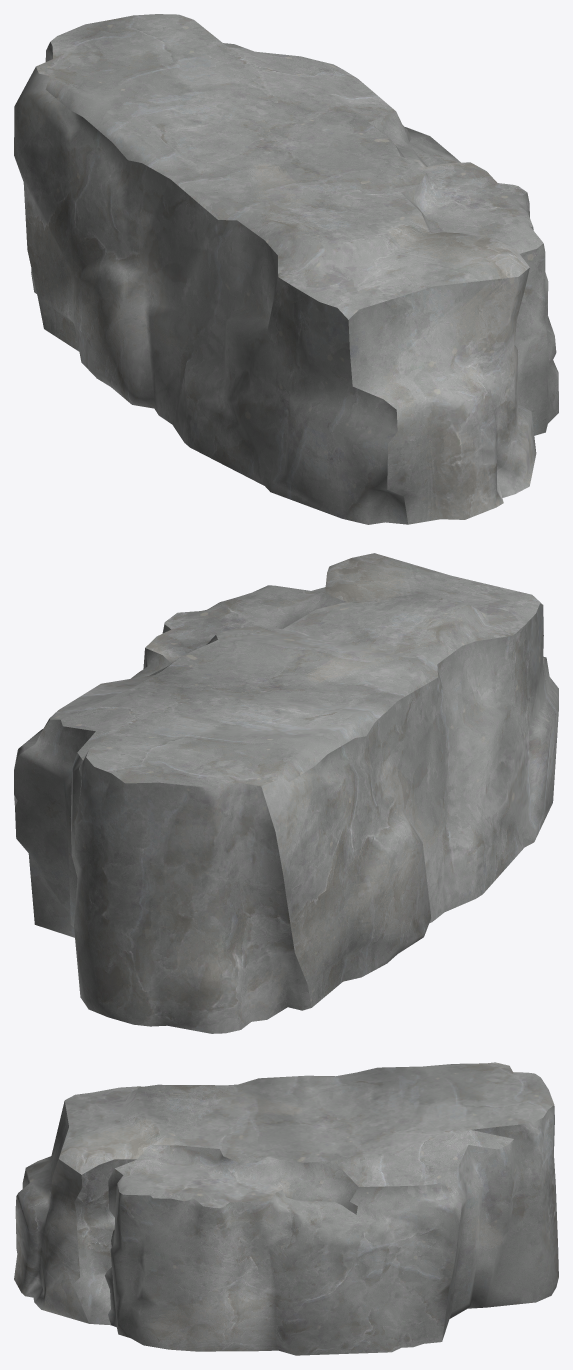
Rendered from SM_Com_Roc_23AS.fbx.
The picture shows the model from 3 angles, top to bottom: view 1: azimuth 30°, elevation 25°; view 2: azimuth 150°, elevation 25°; view 3: azimuth 270°, elevation 25°; orthographic projection. The views are drawn at different scales.
Parts seen in each view (by area): view 1: SM_Com_Roc_23AS.mo; view 2: SM_Com_Roc_23AS.mo; view 3: SM_Com_Roc_23AS.mo.
Part boxes in pixels (box(x1,y1,x2,y2)): SM_Com_Roc_23AS.mo: box(14, 14, 558, 524); SM_Com_Roc_23AS.mo: box(14, 553, 558, 1033); SM_Com_Roc_23AS.mo: box(14, 1062, 558, 1355).
Size of the model in its own units: 18.06 by 12.07 by 32.9.
